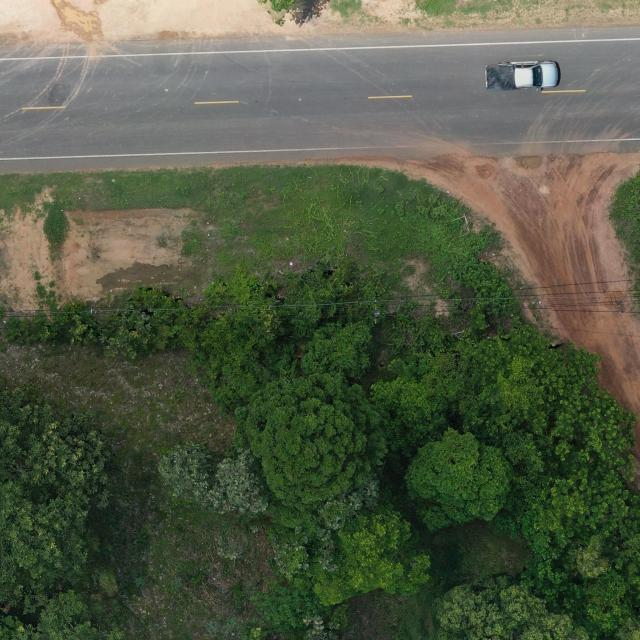Tree: (181, 288, 640, 640), (450, 319, 640, 586), (233, 371, 390, 531), (0, 386, 97, 640), (306, 502, 433, 607), (404, 424, 517, 532), (366, 349, 468, 454), (156, 438, 272, 516), (98, 285, 184, 359), (299, 317, 376, 381)
